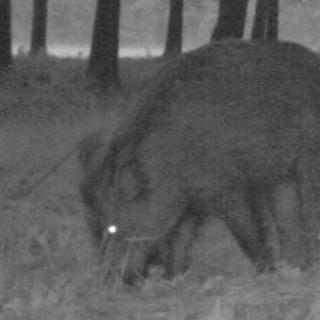Pig: (76, 26, 320, 274)
